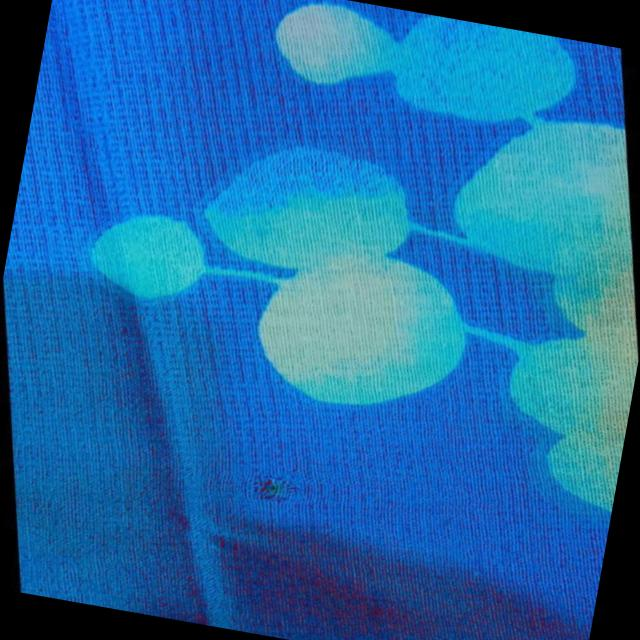cut: (192, 438, 354, 536)
